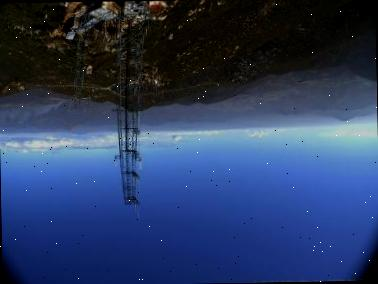smoke: (0, 98, 69, 127)
